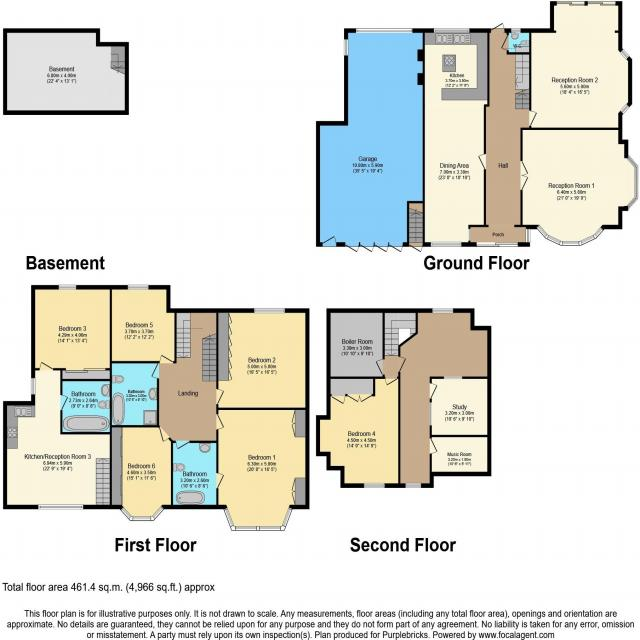DOOR: (158, 426, 170, 443), (429, 382, 439, 399), (490, 22, 505, 33), (398, 355, 407, 373), (375, 359, 385, 375), (216, 413, 225, 430), (216, 472, 225, 489), (216, 388, 225, 405), (500, 34, 509, 51), (39, 361, 54, 371), (159, 354, 174, 364), (529, 110, 538, 126), (60, 394, 68, 411), (478, 153, 486, 170), (175, 441, 190, 450), (430, 438, 438, 454), (151, 363, 159, 379), (384, 377, 398, 386)
ROOM: (3, 361, 112, 509), (422, 28, 489, 247), (520, 127, 639, 246), (529, 1, 633, 130), (216, 407, 310, 531), (216, 308, 310, 410), (316, 376, 401, 488), (31, 285, 112, 381), (110, 425, 173, 521), (109, 285, 177, 364), (429, 376, 492, 437), (430, 435, 492, 476)
WINDOW: (223, 507, 293, 531), (536, 224, 604, 246), (120, 505, 165, 522), (626, 154, 639, 210), (38, 504, 84, 510), (433, 28, 470, 33), (430, 242, 462, 247), (254, 308, 285, 313), (432, 308, 454, 314), (127, 284, 149, 290), (620, 103, 630, 115), (405, 482, 422, 489), (363, 483, 385, 488), (620, 49, 630, 60), (58, 285, 77, 290), (31, 378, 36, 395), (443, 376, 463, 380), (429, 402, 432, 427), (511, 28, 521, 33), (468, 228, 471, 241)
